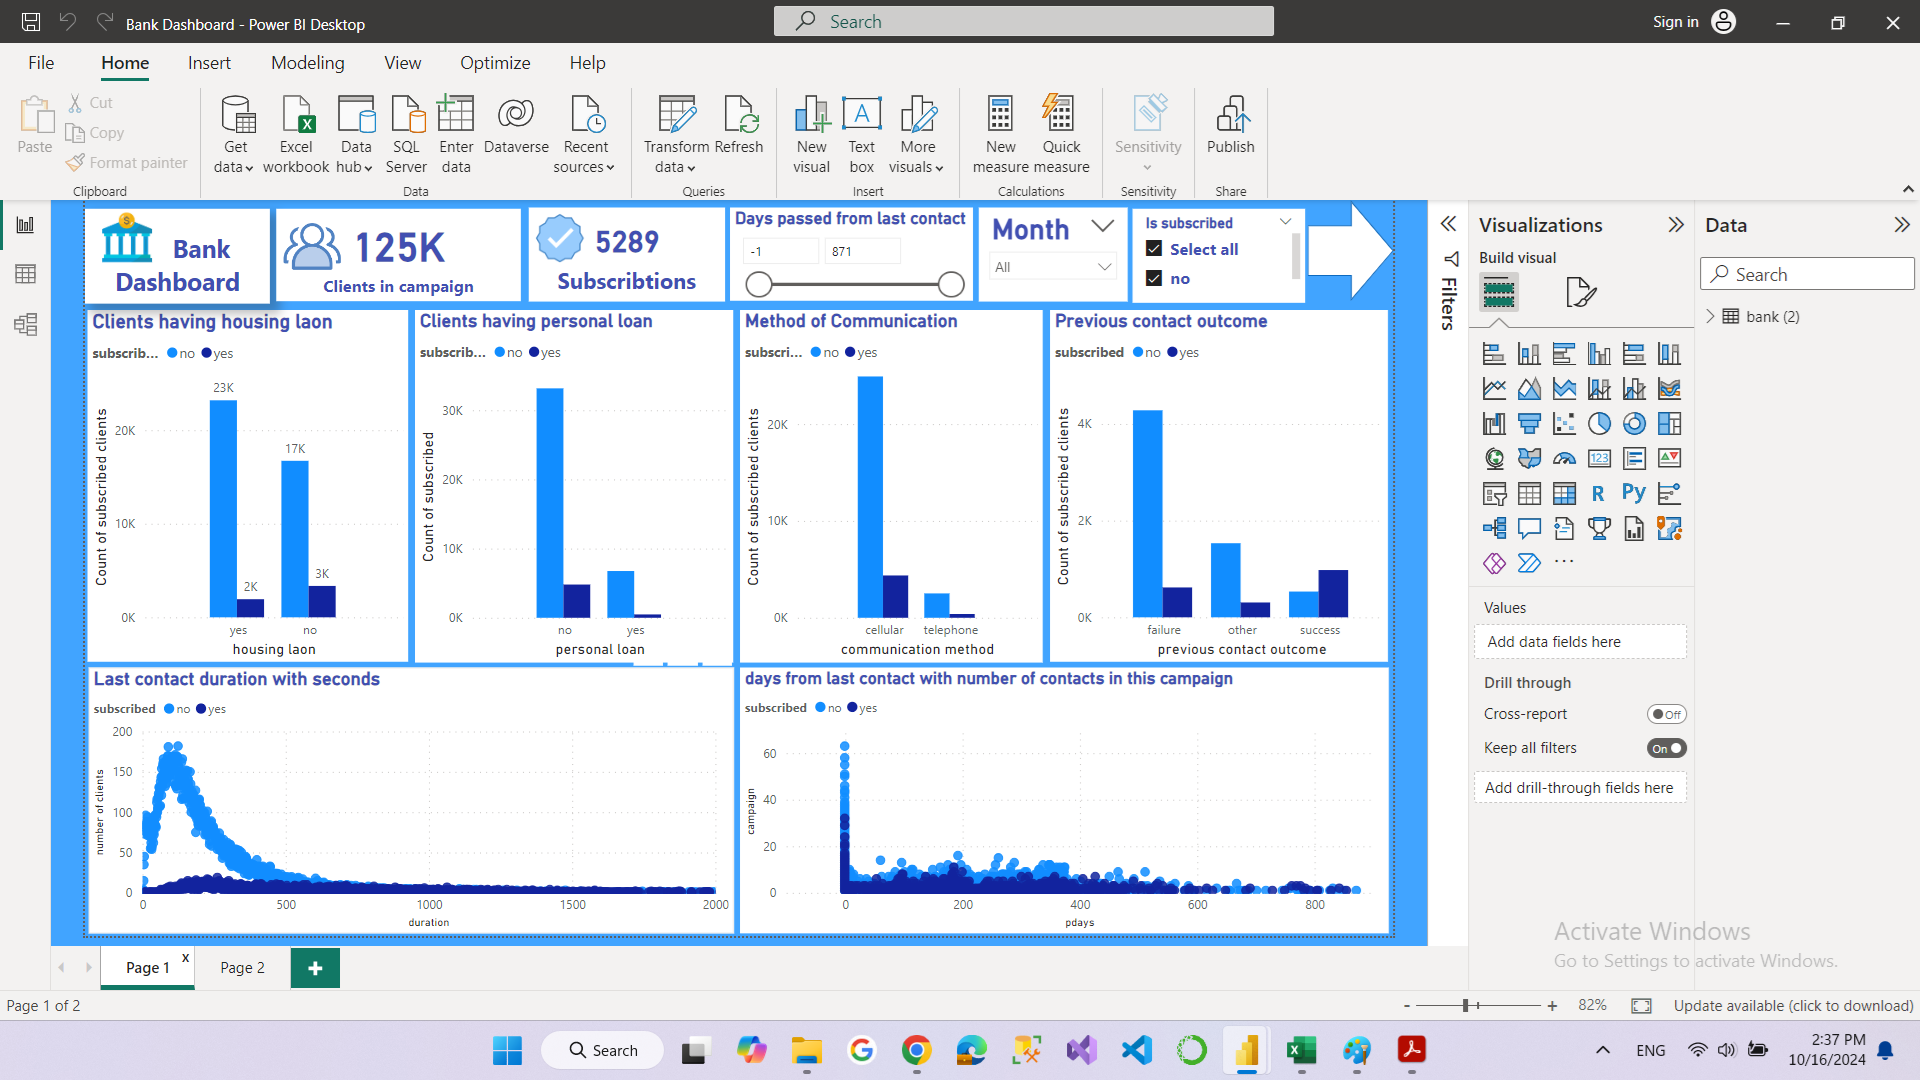

What the dashboard file says about the page in this screenshot:
{"tool":"powerbi","page":{"name":"Page 1","canvas":[1280,720],"ordinal":0},"visuals":[{"type":"clusteredColumnChart","title":"Method of Communication","fields":{"Category":["bank (2).contact"],"Y":["CountNonNull(bank (2).subscribed)"],"Series":["bank (2).subscribed"]},"box":[640.5,107.6,296,344.7],"z":0},{"type":"clusteredColumnChart","title":"Clients having housing laon","fields":{"Category":["bank (2).housing"],"Series":["bank (2).subscribed"],"Y":["CountNonNull(bank (2).subscribed)"]},"box":[2.8,107.8,313.8,344.3],"z":1000},{"type":"card","fields":{"Values":["CountNonNull(bank (2).subscribed)"]},"box":[434,7.3,191.9,91.7],"z":2000},{"type":"clusteredColumnChart","title":"Previous contact outcome","fields":{"Category":["bank (2).poutcome"],"Y":["CountNonNull(bank (2).subscribed)"],"Series":["bank (2).subscribed"]},"box":[944.3,107.8,330.4,344.3],"z":3000},{"type":"slicer","fields":{"Values":["bank (2).subscribed"]},"box":[1024.4,8.6,168.7,91.7],"z":4000},{"type":"textbox","box":[0,8.6,180.9,92.9],"z":5000},{"type":"slicer","title":"Days passed from last contact","fields":{"Values":["bank (2).pdays"]},"box":[631.2,7.5,237.5,91.2],"z":6000},{"type":"card","fields":{"Values":["Sum(bank (2).campaign)"]},"box":[187,8.6,239.6,90.5],"z":7000},{"type":"slicer","fields":{"Values":["bank (2).month"]},"box":[874,7.3,145.5,91.7],"z":8000},{"type":"scatterChart","title":"Last contact duration with seconds","fields":{"Series":["bank (2).subscribed"],"Y":["CountNonNull(bank (2).subscribed)"],"X":["bank (2).duration"]},"box":[3.7,457.2,631,260.4],"z":9000},{"type":"clusteredColumnChart","title":"Clients having personal loan ","fields":{"Category":["bank (2).loan"],"Y":["CountNonNull(bank (2).subscribed)"],"Series":["bank (2).subscribed"]},"box":[322.7,107.6,311,344.7],"z":10000},{"type":"scatterChart","title":"days from last contact with number of contacts in this campaign","fields":{"Series":["bank (2).subscribed"],"Y":["bank (2).campaign"],"X":["bank (2).pdays"]},"box":[640.5,457.2,634.4,260.4],"z":11000},{"type":"shape","box":[1195.5,0,84.3,99],"z":12000},{"type":"image","box":[434,8.6,61.1,57.5],"z":12001},{"type":"image","box":[187,8.6,70.9,73.3],"z":12002},{"type":"image","box":[0,7.3,81.9,58.7],"z":12003}]}

Visuals, with their boxes on the page's 1280x720 design canvas (x1, y1, x2, y2). These are canvas units, not pixel positions in the 1920x1080 screenshot, which may show the page scaled, cropped or inside an application window:
"Method of Communication" clusteredColumnChart: select_region(640, 108, 936, 452)
"Clients having housing laon" clusteredColumnChart: select_region(3, 108, 317, 452)
card - CountNonNull(bank (2).subscribed): select_region(434, 7, 626, 99)
"Previous contact outcome" clusteredColumnChart: select_region(944, 108, 1275, 452)
slicer - bank (2).subscribed: select_region(1024, 9, 1193, 100)
textbox: select_region(0, 9, 181, 102)
"Days passed from last contact" slicer: select_region(631, 8, 869, 99)
card - Sum(bank (2).campaign): select_region(187, 9, 427, 99)
slicer - bank (2).month: select_region(874, 7, 1020, 99)
"Last contact duration with seconds" scatterChart: select_region(4, 457, 635, 718)
"Clients having personal loan " clusteredColumnChart: select_region(323, 108, 634, 452)
"days from last contact with number of contacts in this campaign" scatterChart: select_region(640, 457, 1275, 718)
shape: select_region(1196, 0, 1280, 99)
image: select_region(434, 9, 495, 66)
image: select_region(187, 9, 258, 82)
image: select_region(0, 7, 82, 66)
